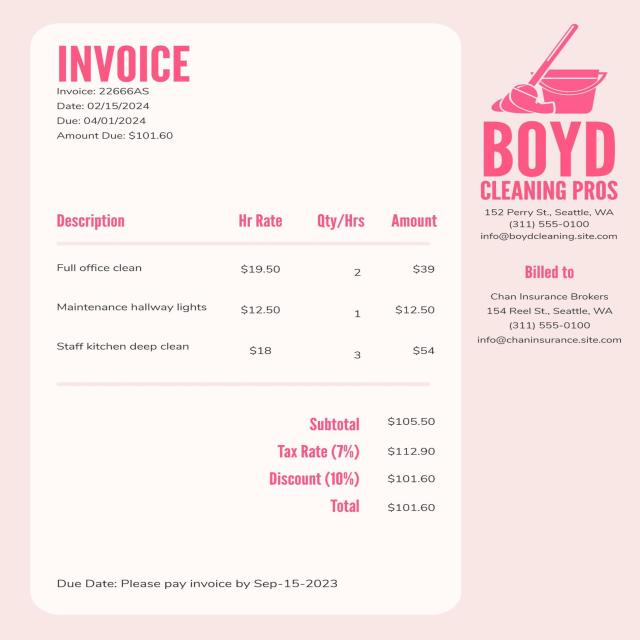paragraph: (266, 402, 444, 520), (468, 114, 626, 244), (50, 37, 206, 145), (468, 261, 628, 347), (51, 571, 350, 595)
table: (44, 206, 450, 362)
